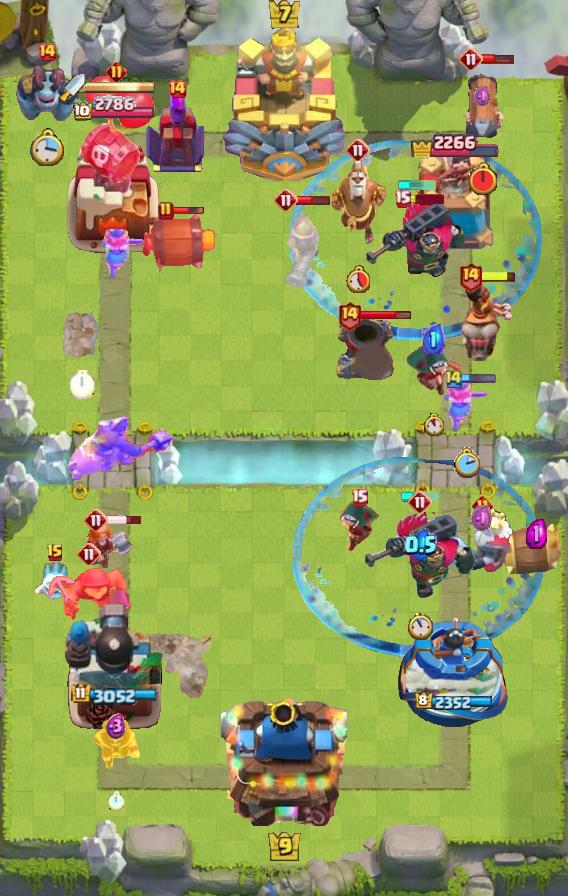bar: (64, 124, 164, 256)
bat: (34, 562, 79, 604)
battle-healer: (461, 63, 505, 147)
bomb-tower: (283, 204, 325, 292)
electro-spirit: (404, 528, 437, 560), (423, 324, 445, 354), (525, 519, 547, 549), (471, 504, 494, 532), (106, 713, 126, 740), (474, 84, 492, 108)
elite-barbarian: (454, 277, 516, 371)
elixir: (30, 128, 66, 166), (467, 163, 499, 197), (453, 447, 480, 477), (69, 370, 94, 400), (408, 612, 433, 640), (346, 265, 370, 293), (424, 412, 444, 435), (107, 791, 124, 811)
elixir-collector: (330, 154, 386, 250)
elixir-golem-small: (13, 63, 81, 125)
emote: (359, 311, 412, 322), (481, 270, 517, 283), (106, 514, 143, 526), (296, 194, 332, 206), (461, 372, 497, 384), (482, 53, 515, 65), (408, 194, 444, 204), (171, 206, 205, 216)
fireball: (45, 565, 133, 627)
fisherman: (147, 634, 211, 703), (63, 308, 101, 358)
freeze: (65, 415, 173, 483)
hog-rider: (99, 227, 147, 281), (442, 380, 490, 434), (86, 522, 136, 570)
ice-spirit: (397, 180, 437, 190), (400, 492, 440, 502)
ice-spirit-evolution-symbol: (145, 87, 209, 175)
inferno-tower: (364, 512, 476, 600), (363, 198, 471, 282)
king-tower: (220, 21, 348, 181), (221, 690, 347, 826)
king-tower-bar: (85, 80, 155, 94)
lumberjack: (91, 719, 141, 771)
mortar-evolution: (450, 506, 514, 578)
musketeer: (334, 315, 396, 383)
pad_0: (290, 138, 544, 340), (293, 455, 547, 657)
queen-tower: (395, 614, 514, 730), (405, 154, 501, 256)
royal-recruit-evolution: (76, 73, 156, 187)
selected: (409, 127, 500, 157), (72, 97, 156, 124), (70, 683, 157, 705), (414, 692, 494, 712)
tesla: (404, 345, 464, 397), (328, 501, 390, 551)
text: (458, 261, 483, 292), (337, 301, 362, 332), (459, 47, 483, 71), (346, 138, 370, 162), (274, 188, 298, 212), (408, 490, 432, 514), (84, 508, 108, 532), (77, 542, 101, 566), (105, 61, 126, 83), (472, 495, 493, 517), (444, 367, 464, 389), (37, 42, 57, 62), (167, 79, 187, 99), (46, 543, 64, 563), (351, 489, 369, 508), (158, 201, 174, 221), (394, 189, 411, 207)
the-log: (139, 212, 219, 272), (494, 523, 568, 575)
tower-bar: (64, 601, 164, 731)
